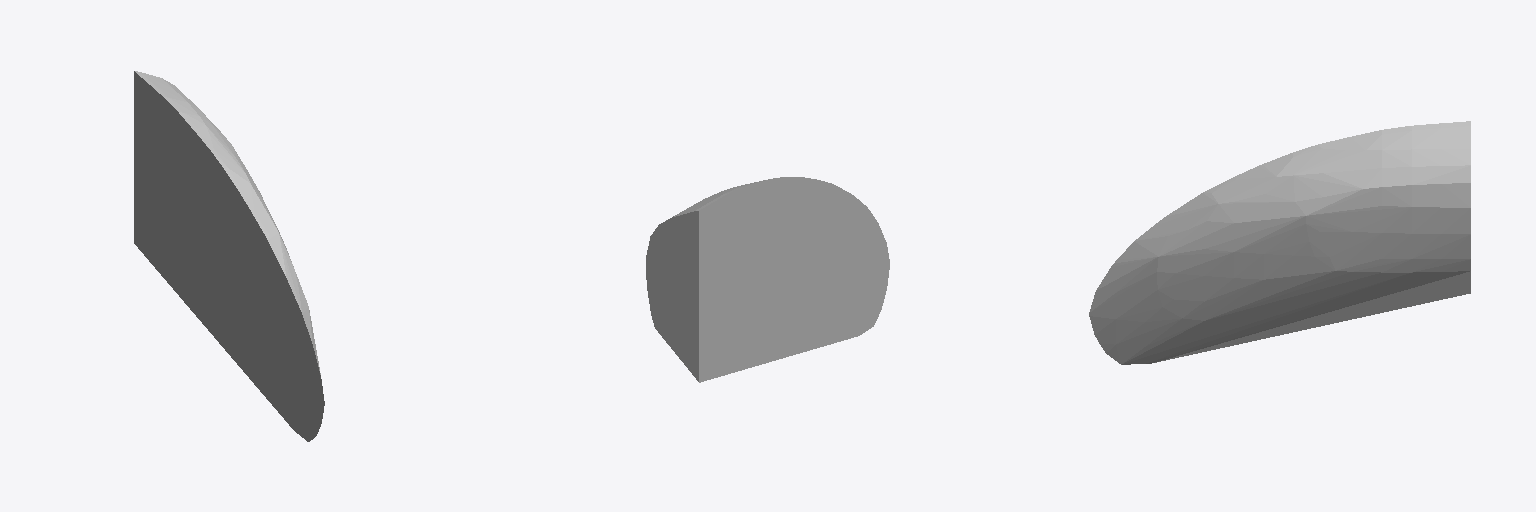
File: weight_4_collision_24.obj
3 renders of one model, left to right at view 1: azimuth 30°, elevation 25°; view 2: azimuth 150°, elevation 25°; view 3: azimuth 270°, elevation 25°, orthographic.
Bounding box in the file's own units: 0.0275 × 0.1198 × 0.1702.